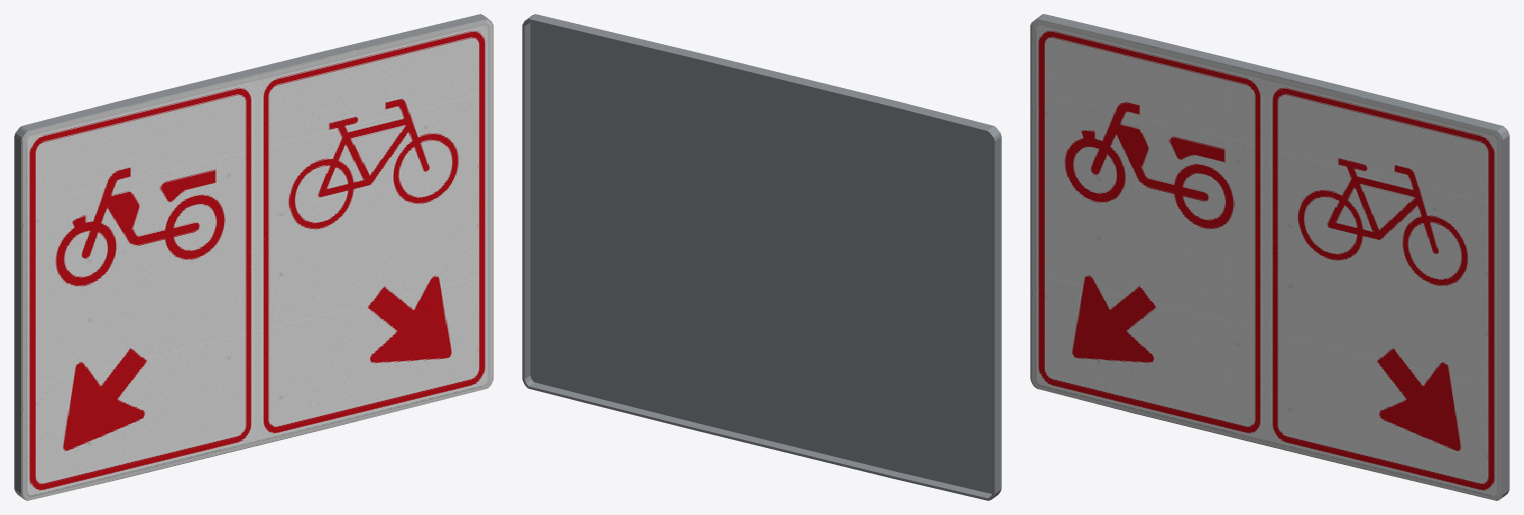
3 renders of one model, left to right at view 1: azimuth 30°, elevation 25°; view 2: azimuth 150°, elevation 25°; view 3: azimuth 330°, elevation 25°, orthographic.
Visible parts, largest first — view 1: cat_d992339f2d6eb954; view 2: cat_d992339f2d6eb954; view 3: cat_d992339f2d6eb954.
Boxes of the visible parts, x1=… form: cat_d992339f2d6eb954: x1=14, y1=14, x2=493, y2=500; cat_d992339f2d6eb954: x1=522, y1=14, x2=1001, y2=500; cat_d992339f2d6eb954: x1=1030, y1=14, x2=1509, y2=500.
Size of the model in its own units: 0.6 by 0.015 by 0.4513.
2 materials, 1 textured.
